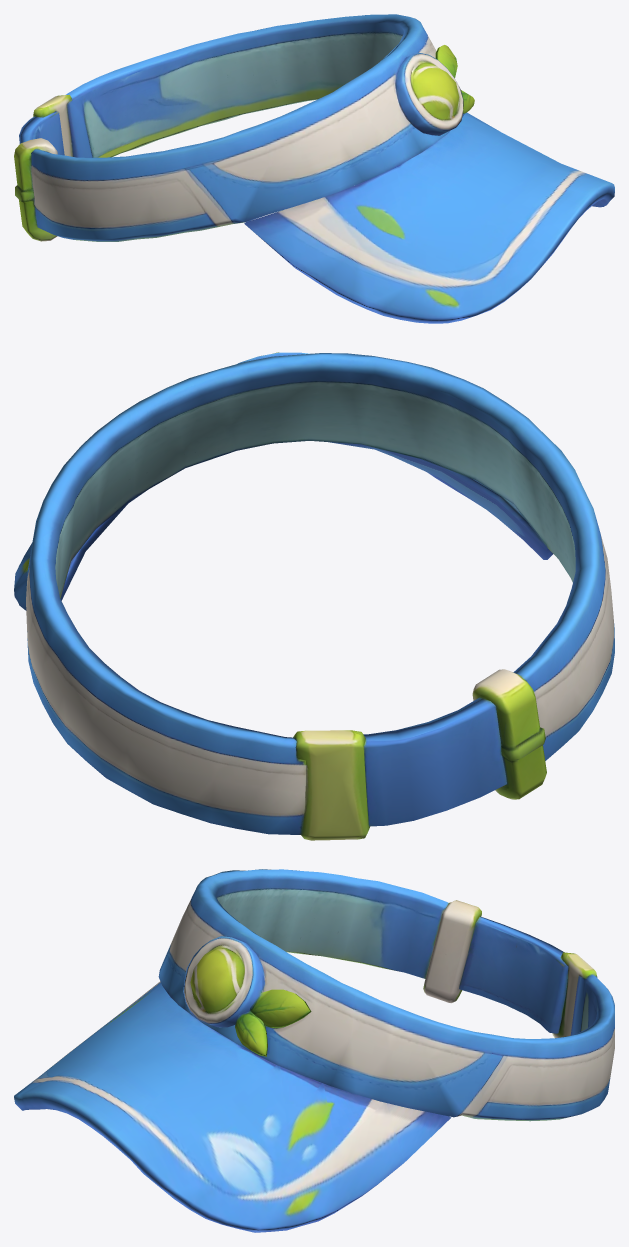
The model's file is visor-r9.glb.
3 views of the same model, one above another, from view 1: azimuth 30°, elevation 25°; view 2: azimuth 150°, elevation 25°; view 3: azimuth 270°, elevation 25° (orthographic). The views are drawn at different scales.
Visible parts, largest first — view 1: tripo_node_8b0804b6-1ed0-4977-bfec-c1a27e0f56d1; view 2: tripo_node_8b0804b6-1ed0-4977-bfec-c1a27e0f56d1; view 3: tripo_node_8b0804b6-1ed0-4977-bfec-c1a27e0f56d1.
Part boxes in pixels (bbox=[...]): tripo_node_8b0804b6-1ed0-4977-bfec-c1a27e0f56d1: bbox=[14, 14, 614, 323]; tripo_node_8b0804b6-1ed0-4977-bfec-c1a27e0f56d1: bbox=[14, 352, 614, 840]; tripo_node_8b0804b6-1ed0-4977-bfec-c1a27e0f56d1: bbox=[14, 869, 614, 1232].
Size of the model in its own units: 0.9512 by 0.3848 by 0.998.
Materials: 1 (1 with a texture image).
